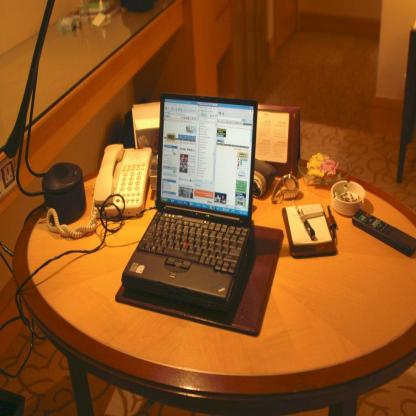board: (122, 90, 268, 328)
